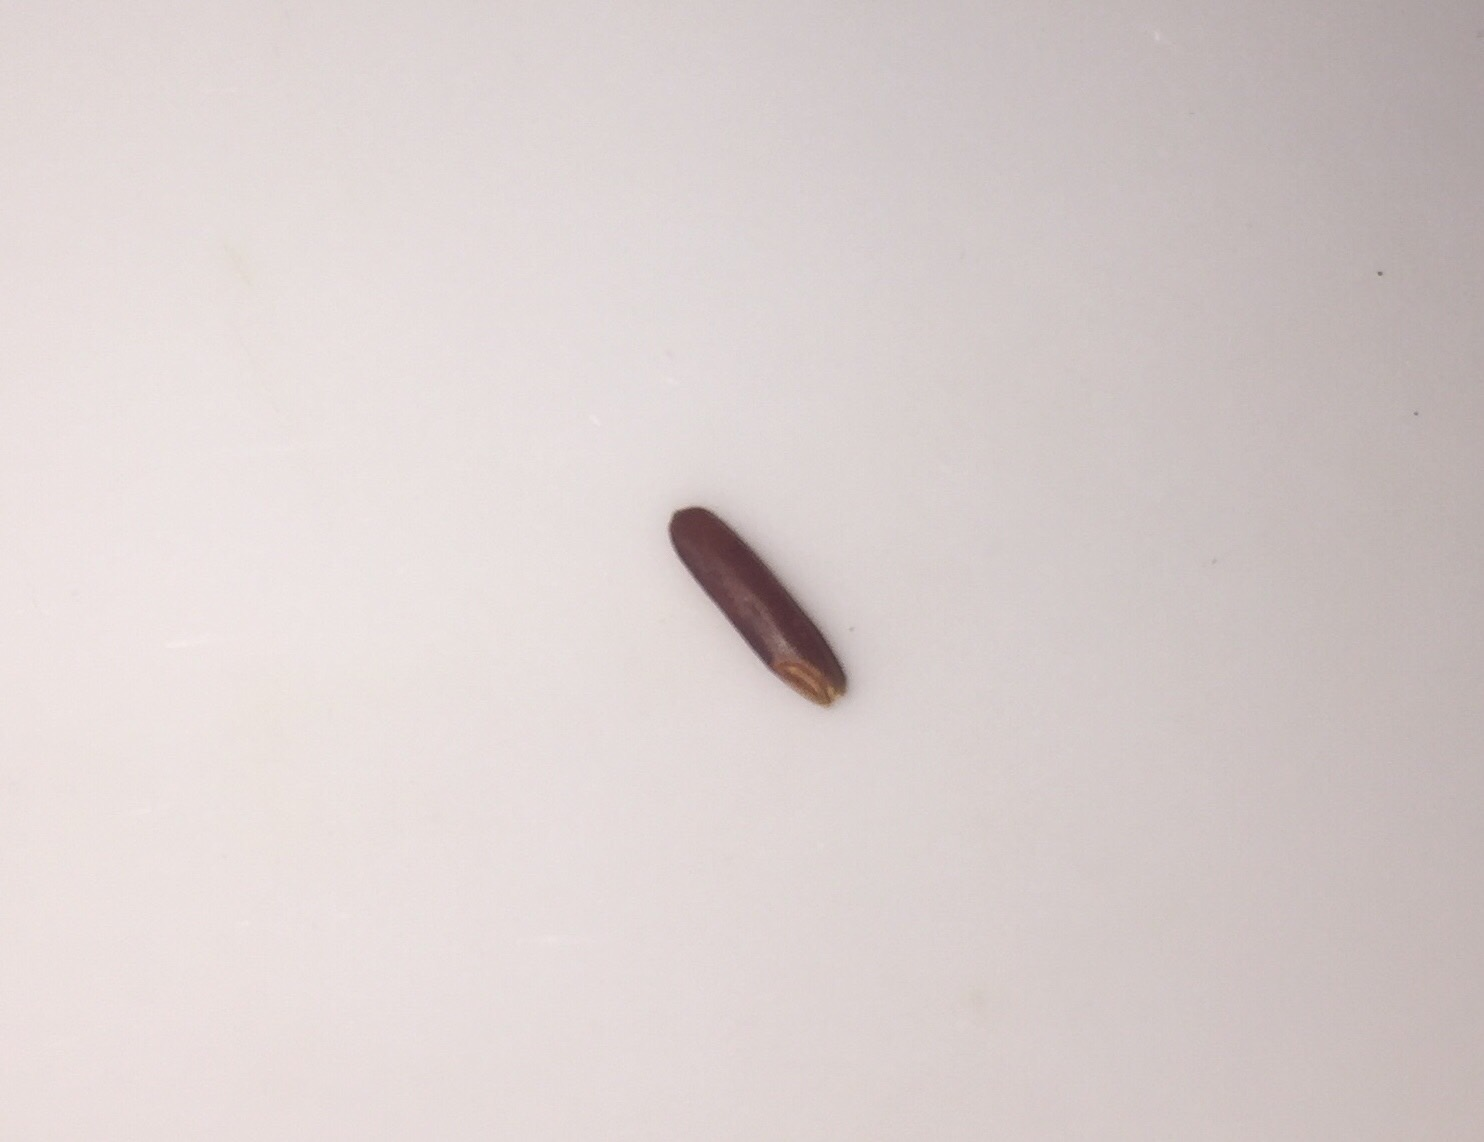Gao Huyet Rong: (656, 489, 854, 717)
